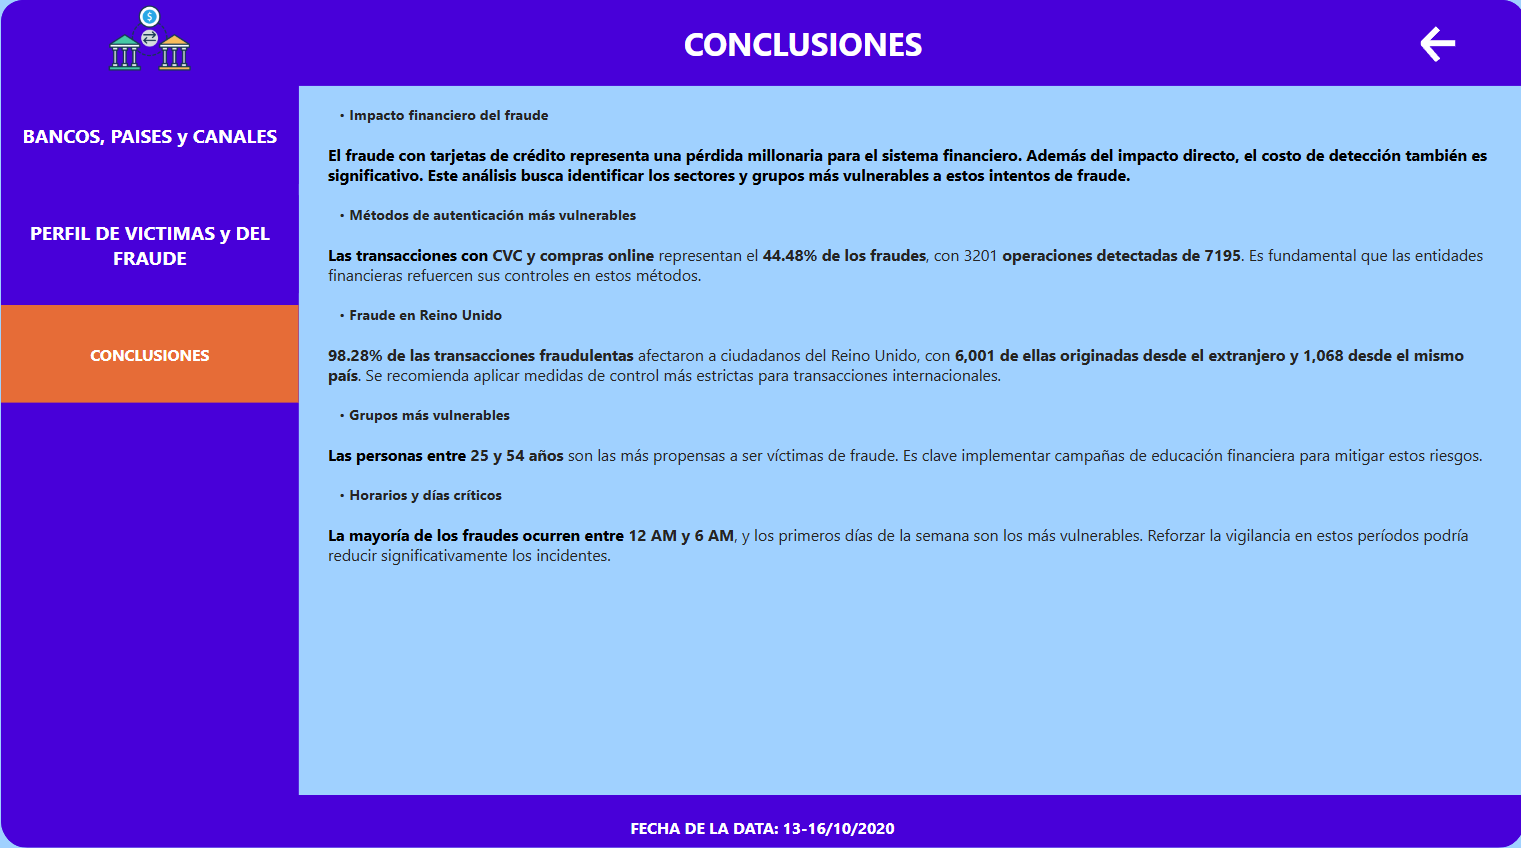

What the dashboard file says about the page in this screenshot:
{"tool":"powerbi","page":{"name":"CONCLUSIONES","canvas":[1280,720],"ordinal":2},"visuals":[{"type":"shape","box":[0,7.8,1280,72.2],"z":0},{"type":"shape","box":[0,64.4,250,611.1],"z":1000},{"type":"pageNavigator","box":[0,80,250,268.9],"z":2000},{"type":"shape","box":[0,675.6,1280,44.4],"z":3000},{"type":"textbox","box":[217.8,21.1,912.2,45.6],"z":4000},{"type":"actionButton","box":[1188.9,24.4,38.9,40],"z":5000},{"type":"textbox","box":[466.7,688.9,346.7,30],"z":6000},{"type":"image","box":[66.7,0,117.8,78.9],"z":7000},{"type":"textbox","box":[270,91.1,988.9,411.1],"z":8000}]}

Visuals, with their boxes in screenshot pixels (x1, y1, x2, y2), scaled from the page's 1280x720 canvas onto the 1521x848 screenshot:
shape: (left=0, top=9, right=1520, bottom=94)
shape: (left=0, top=76, right=297, bottom=796)
pageNavigator: (left=0, top=94, right=297, bottom=411)
shape: (left=0, top=796, right=1520, bottom=847)
textbox: (left=259, top=25, right=1343, bottom=79)
actionButton: (left=1413, top=29, right=1459, bottom=76)
textbox: (left=555, top=811, right=967, bottom=847)
image: (left=79, top=0, right=219, bottom=93)
textbox: (left=321, top=107, right=1496, bottom=591)
